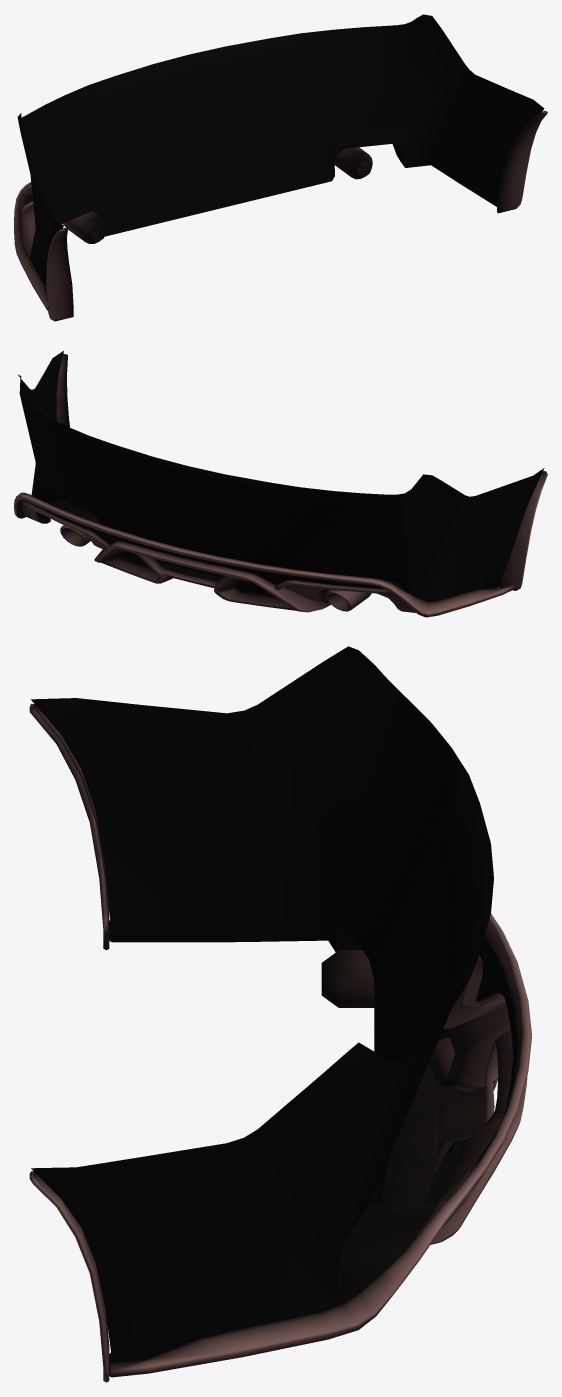
File: Mustang16_RB_GT_Trim.fbx
3 renders of one model, top to bottom at view 1: azimuth 30°, elevation 25°; view 2: azimuth 150°, elevation 25°; view 3: azimuth 270°, elevation 25°, orthographic. The views are drawn at different scales.
Parts seen in each view (by area): view 1: Mustang16_RB_GT_Trim; view 2: Mustang16_RB_GT_Trim; view 3: Mustang16_RB_GT_Trim.
Boxes of the visible parts, <box> form: Mustang16_RB_GT_Trim: <box>14,14,547,321</box>; Mustang16_RB_GT_Trim: <box>14,351,547,617</box>; Mustang16_RB_GT_Trim: <box>29,646,531,1382</box>.
Size of the model in its own units: 190 by 57.83 by 84.55.
